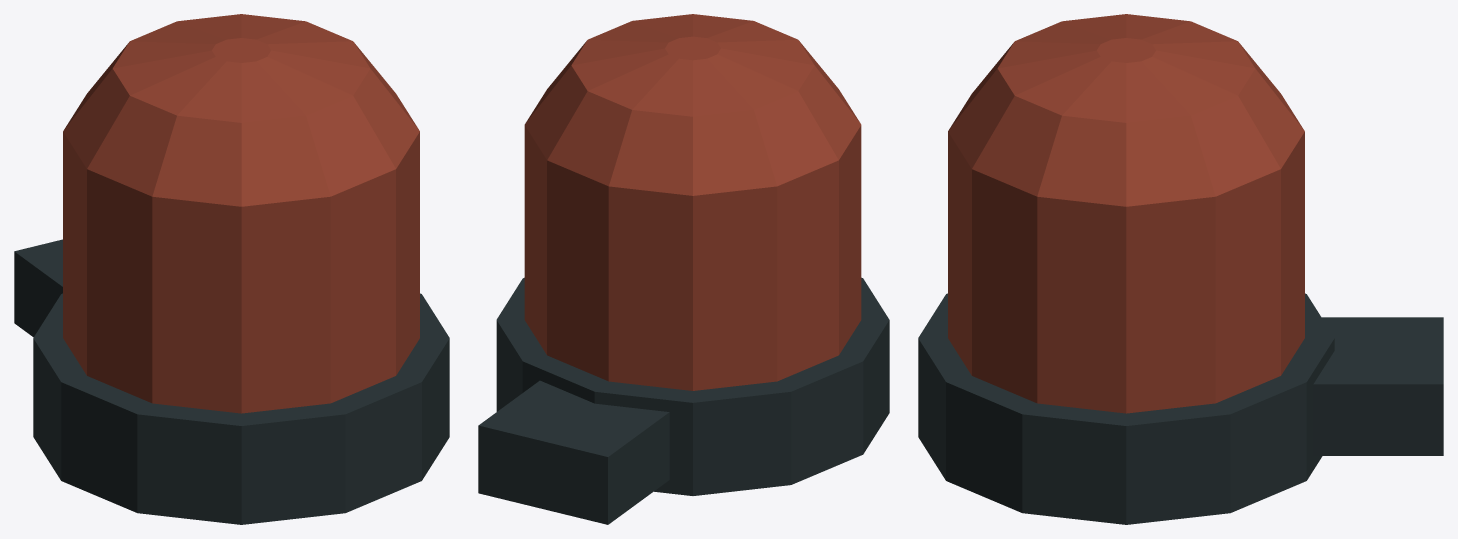
3 views of the same model, side by side, from view 1: azimuth 30°, elevation 25°; view 2: azimuth 150°, elevation 25°; view 3: azimuth 270°, elevation 25° (orthographic). The views are drawn at different scales.
Parts seen in each view (by area): view 1: a158; view 2: a158; view 3: a158.
Part boxes in pixels (x1=…): a158: x1=14, y1=14, x2=449, y2=524; a158: x1=478, y1=14, x2=889, y2=524; a158: x1=918, y1=14, x2=1443, y2=524.
Bounding box in the file's own units: 0.21 × 0.215 × 0.265.
